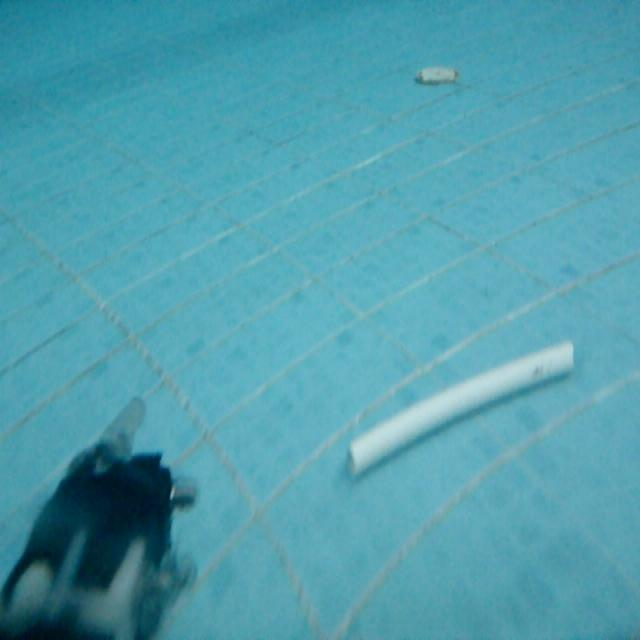Cube: (343, 332, 577, 480)
